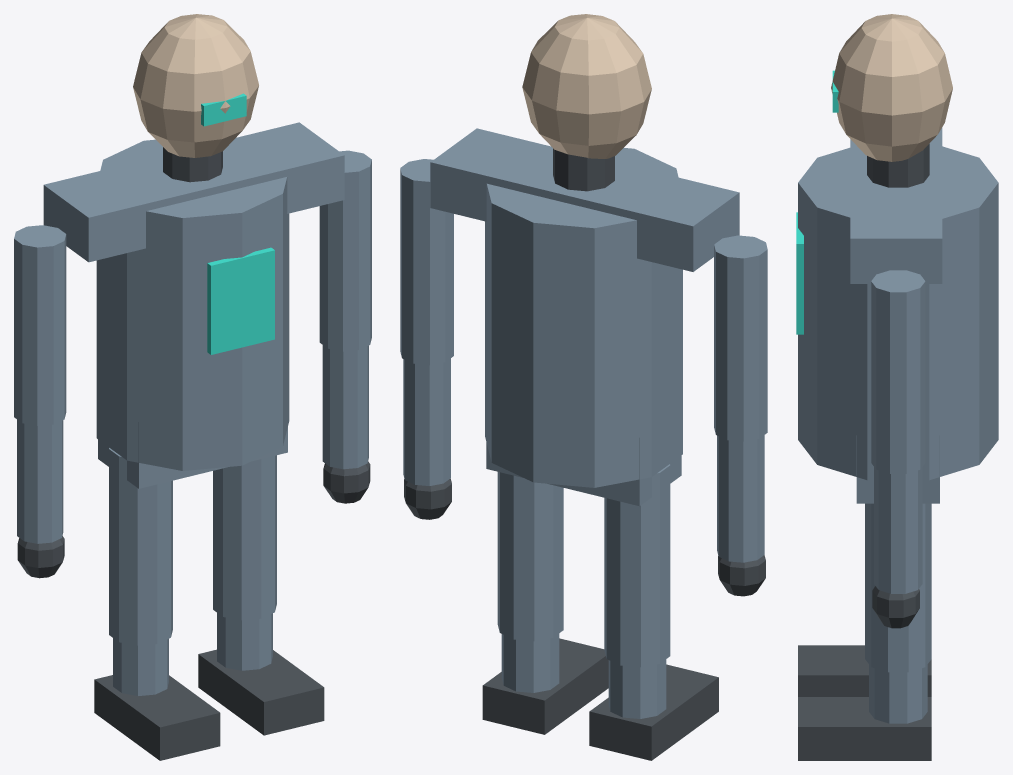
File: chr_proto_humanoid_01.glb
3 views of the same model, side by side, from view 1: azimuth 30°, elevation 25°; view 2: azimuth 150°, elevation 25°; view 3: azimuth 270°, elevation 25° (orthographic). The views are drawn at different scales.
Visible parts, largest first — view 1: geo_torso, geo_shoulder_bar, geo_head, geo_l_thigh, geo_l_upper_arm, geo_r_thigh, geo_r_upper_arm, geo_r_foot, geo_l_foot, geo_chest_forward_mark, geo_r_forearm, geo_l_forearm (+7 smaller); view 2: geo_torso, geo_shoulder_bar, geo_head, geo_l_thigh, geo_l_upper_arm, geo_r_thigh, geo_r_upper_arm, geo_l_foot, geo_r_foot, geo_l_forearm, geo_r_forearm, geo_l_shin (+5 smaller); view 3: geo_torso, geo_head, geo_r_upper_arm, geo_shoulder_bar, geo_r_foot, geo_r_forearm, geo_r_thigh, geo_l_foot, geo_r_shin, geo_neck, geo_r_hand, geo_pelvis (+1 smaller).
Boxes of the visible parts, <box> form: geo_torso: <box>96,139,289,470</box>; geo_shoulder_bar: <box>43,122,344,262</box>; geo_head: <box>133,14,258,157</box>; geo_l_thigh: <box>109,448,172,645</box>; geo_l_upper_arm: <box>14,225,66,425</box>; geo_r_thigh: <box>213,455,276,620</box>; geo_r_upper_arm: <box>319,150,371,351</box>; geo_r_foot: <box>198,649,324,735</box>; geo_l_foot: <box>94,675,220,760</box>; geo_chest_forward_mark: <box>207,247,274,354</box>; geo_r_forearm: <box>322,345,368,469</box>; geo_l_forearm: <box>17,419,63,543</box>; geo_torso: <box>485,148,682,487</box>; geo_shoulder_bar: <box>430,128,739,271</box>; geo_head: <box>522,14,651,158</box>; geo_l_thigh: <box>604,464,670,667</box>; geo_l_upper_arm: <box>714,235,767,441</box>; geo_r_thigh: <box>497,472,563,641</box>; geo_r_upper_arm: <box>400,159,453,365</box>; geo_l_foot: <box>589,664,718,760</box>; geo_r_foot: <box>482,638,608,734</box>; geo_l_forearm: <box>717,435,764,562</box>; geo_r_forearm: <box>403,358,450,485</box>; geo_l_shin: <box>608,659,666,718</box>; geo_torso: <box>798,146,998,480</box>; geo_head: <box>831,14,952,161</box>; geo_r_upper_arm: <box>871,270,925,473</box>; geo_shoulder_bar: <box>850,127,942,283</box>; geo_r_foot: <box>798,697,931,760</box>; geo_r_forearm: <box>874,467,922,593</box>; geo_r_thigh: <box>865,503,931,672</box>; geo_l_foot: <box>798,645,931,696</box>; geo_r_shin: <box>869,664,927,723</box>; geo_neck: <box>867,144,929,187</box>; geo_r_hand: <box>872,586,919,628</box>; geo_pelvis: <box>856,435,939,503</box>.
Bounding box in the file's own units: 0.9836 × 1.85 × 0.484.
